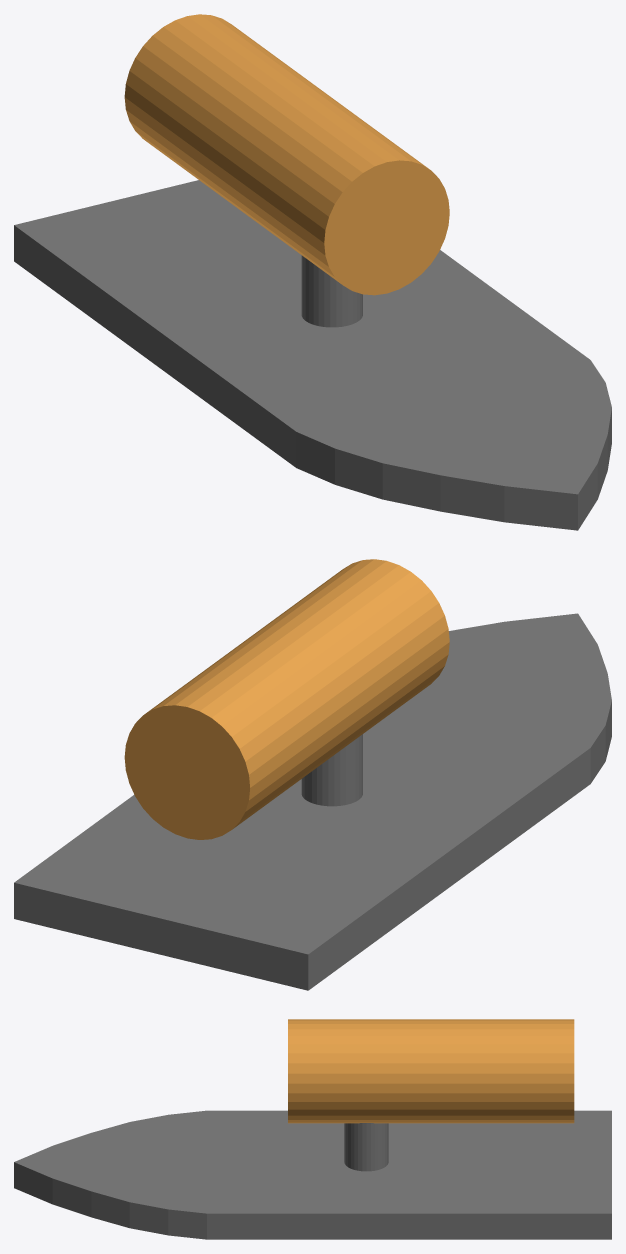
File: kote.fbx
The picture shows the model from 3 angles, top to bottom: view 1: azimuth 30°, elevation 25°; view 2: azimuth 150°, elevation 25°; view 3: azimuth 270°, elevation 25°; orthographic projection. The views are drawn at different scales.
Visible parts, largest first — view 1: kote; view 2: kote; view 3: kote.
Part boxes in pixels (x1=…): kote: x1=14, y1=14, x2=611, y2=530; kote: x1=14, y1=559, x2=611, y2=990; kote: x1=14, y1=1019, x2=611, y2=1239.
Bounding box in the file's own units: 311 × 231 × 762.
